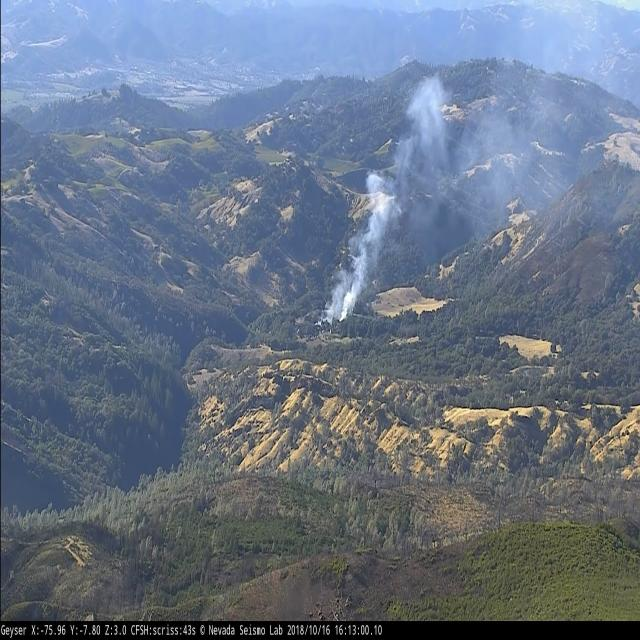smoke: (320, 75, 445, 324)
